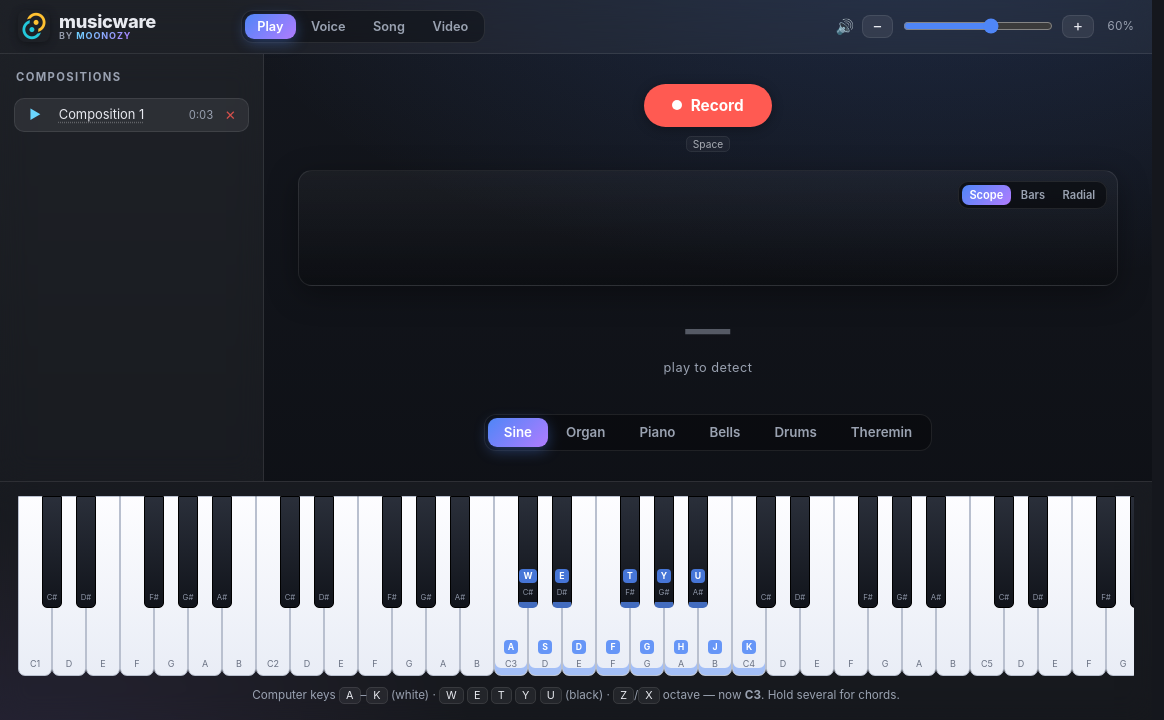
recorder UI (Transport + Library) › shows an undo toast after delete and restores on Undo
This screenshot has width=1164, height=720.
Step 1. Click the button named "Delete Composition 1" → {"x": 230, "y": 115}, box [221, 105, 240, 125]
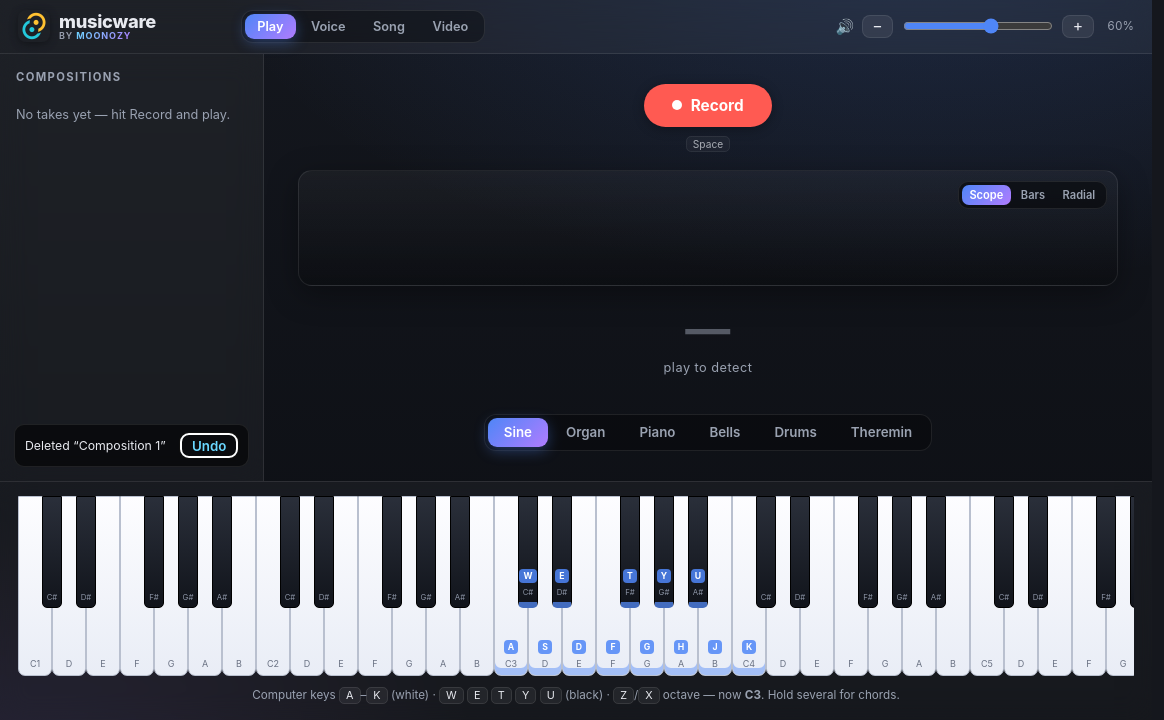
Expected: the text "Deleted “Composition 1”" is shown, [25, 438, 166, 453]
Step 2. Click the button with aria-label "Undo delete" → {"x": 209, "y": 446}, box [180, 433, 238, 458]
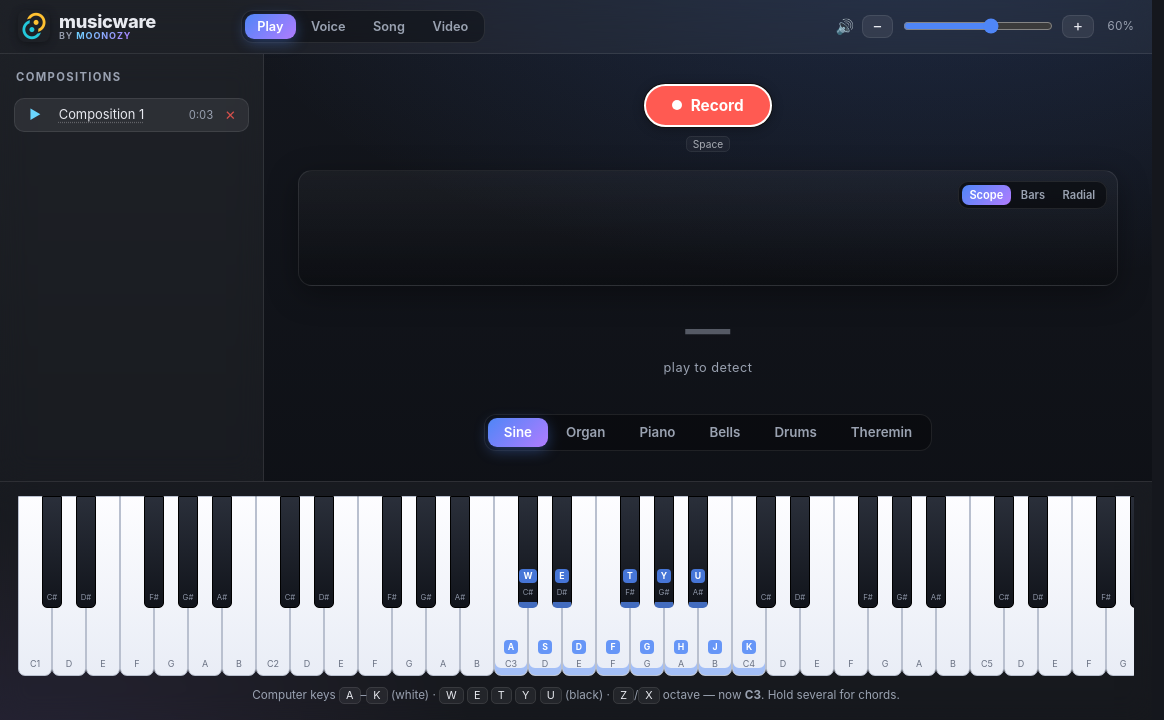
Expected: the button named "Play Composition 1" is shown, [23, 105, 47, 124]
Expected: the text "Deleted" is gone
